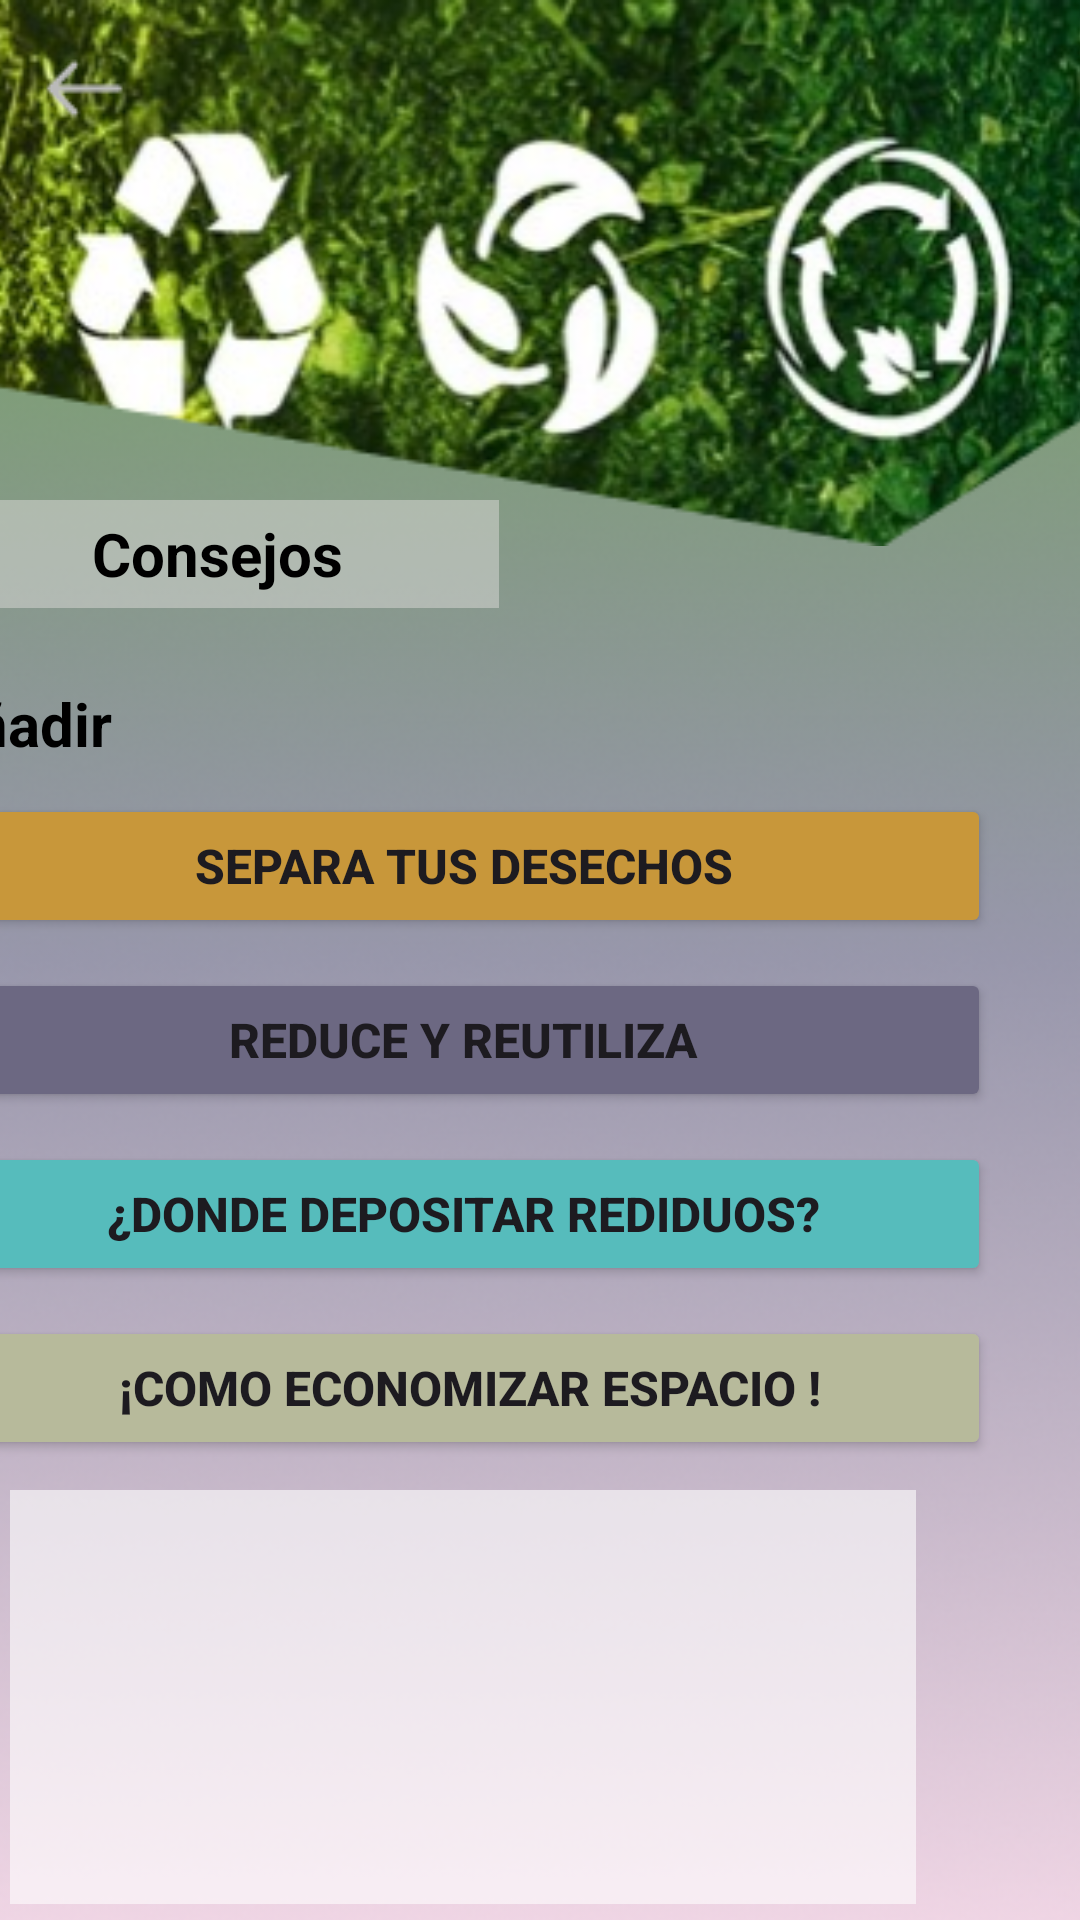

Named icons in this screenshot (1080 × 1920) and their centers, (x,y):
retroceso: (84,88)
